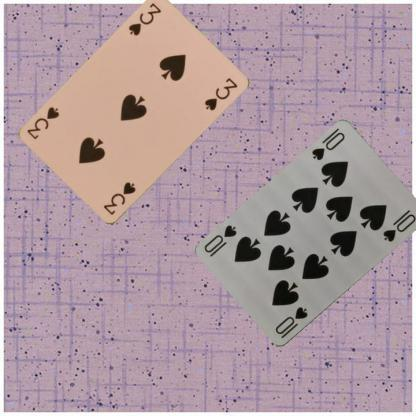10s: (309, 130, 346, 164), (272, 304, 309, 336)
3s: (126, 0, 163, 38), (100, 180, 137, 216)
